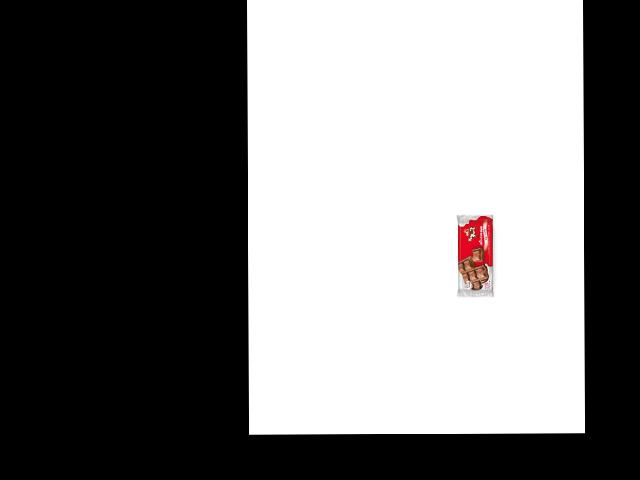chocolate: (456, 213, 493, 299)
